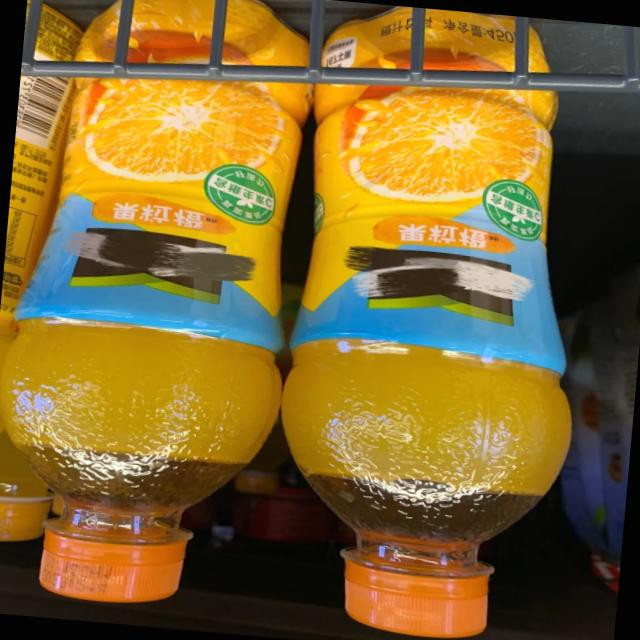bottle: (260, 0, 609, 640), (0, 0, 323, 617), (0, 0, 96, 547)
